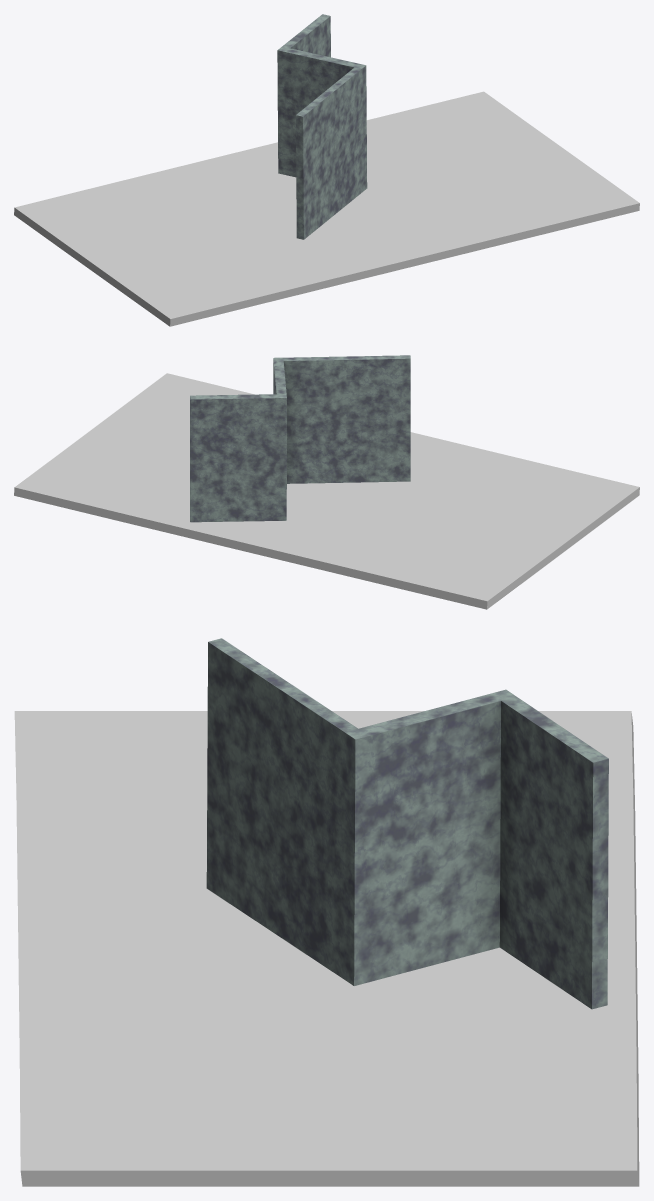
File: Roof1.fbx
3 views of the same model, one above another, from view 1: azimuth 30°, elevation 25°; view 2: azimuth 150°, elevation 25°; view 3: azimuth 270°, elevation 25° (orthographic). The views are drawn at different scales.
Parts seen in each view (by area): view 1: Cube.212, Cube.197; view 2: Cube.212, Cube.197; view 3: Cube.212, Cube.197.
Part boxes in pixels (<box>): Cube.212: <box>14,91,639,326</box>; Cube.197: <box>277,14,367,239</box>; Cube.212: <box>14,373,639,609</box>; Cube.197: <box>190,355,410,522</box>; Cube.212: <box>14,711,639,1186</box>; Cube.197: <box>206,638,608,1009</box>.
Bounding box in the file's own units: 847 × 225 × 485.
2 materials, 1 textured.
